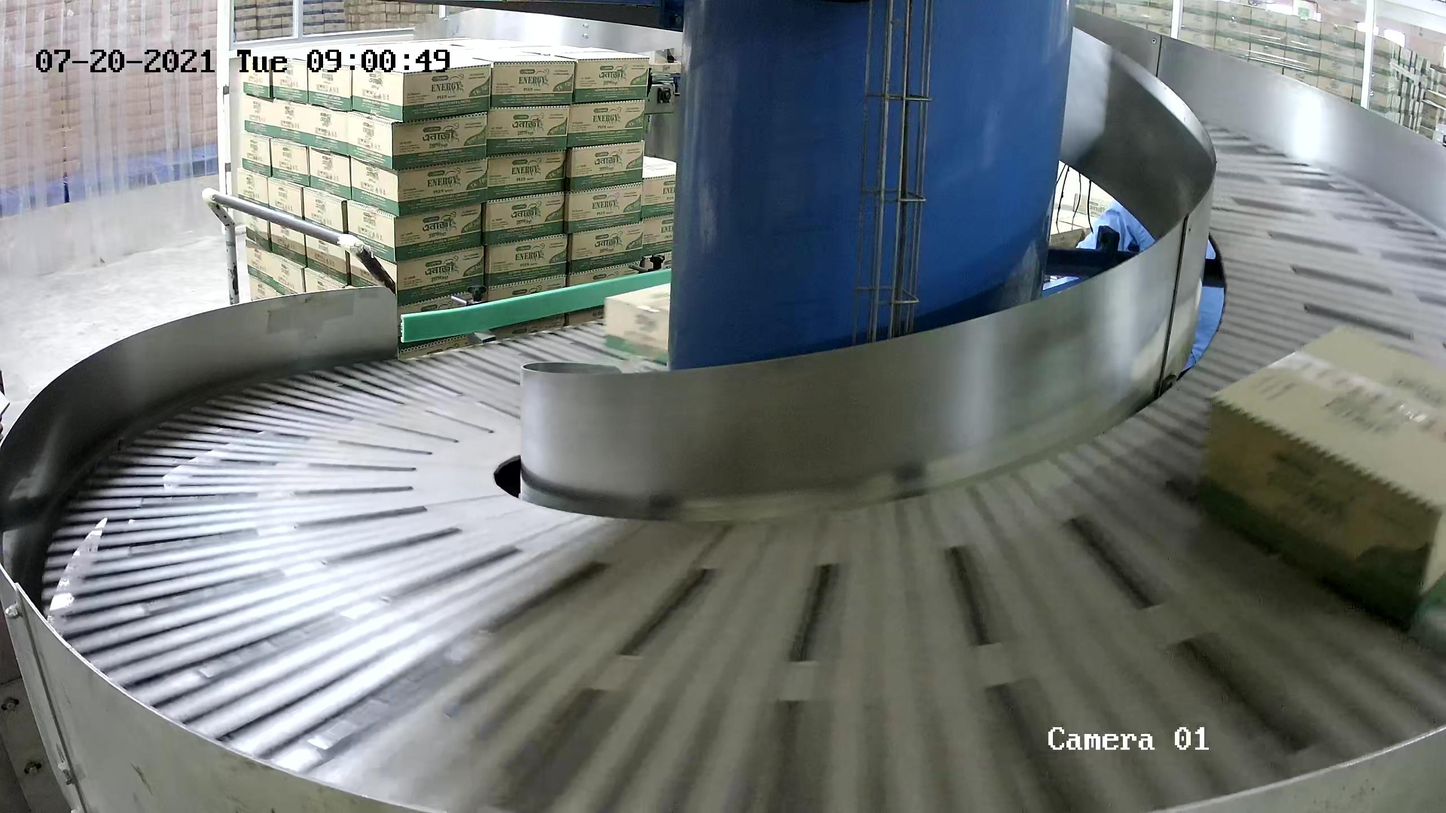Box: (1199, 321, 1446, 635), (602, 281, 670, 365)
